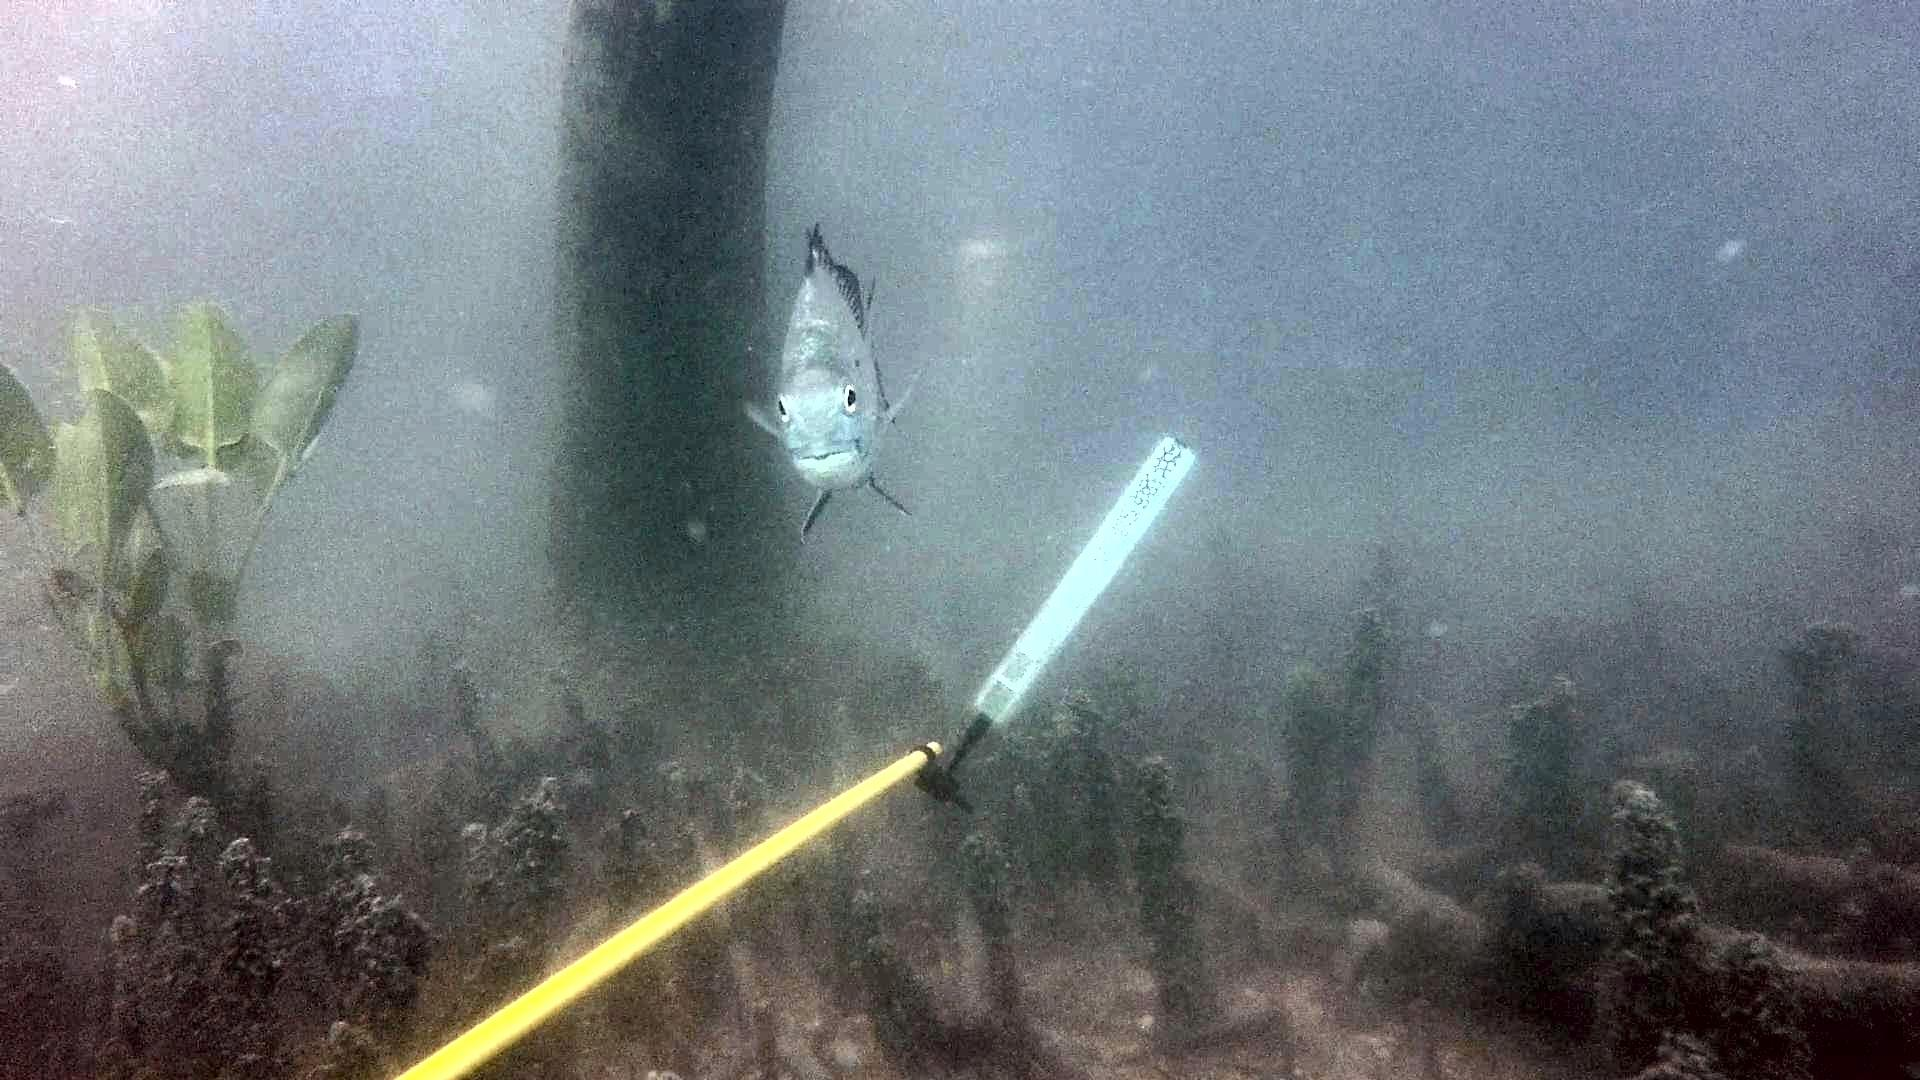acanthopagrus palmaris: (726, 213, 950, 540)
